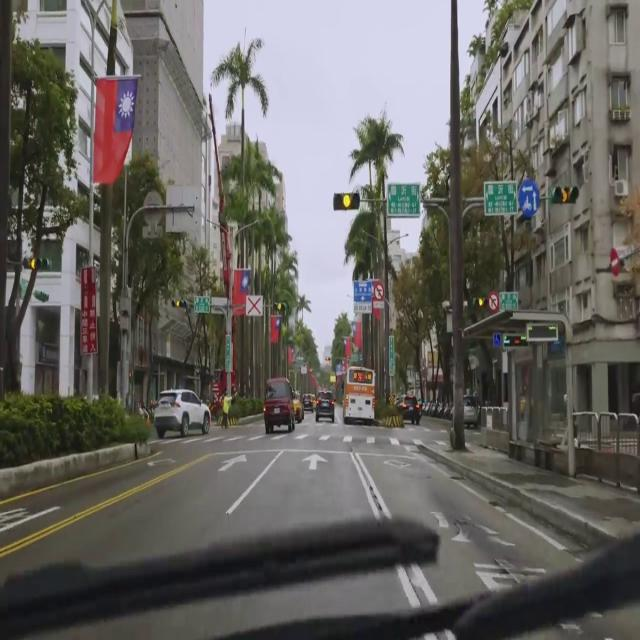yellow light: (334, 192, 359, 210), (171, 299, 187, 308), (274, 302, 287, 310)
